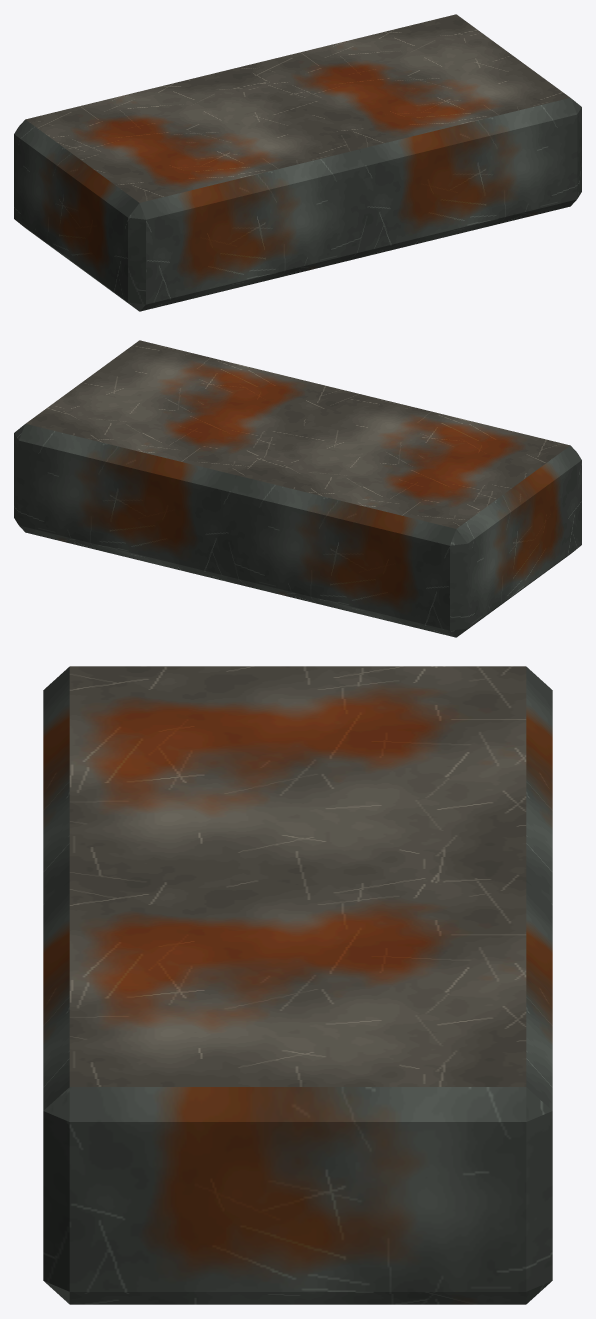
The model's file is R4B_Plate1x2_LOD1.glb.
3 views of the same model, one above another, from view 1: azimuth 30°, elevation 25°; view 2: azimuth 150°, elevation 25°; view 3: azimuth 270°, elevation 25° (orthographic). The views are drawn at different scales.
Parts seen in each view (by area): view 1: R4B_Plate1x2_LOD1; view 2: R4B_Plate1x2_LOD1; view 3: R4B_Plate1x2_LOD1.
Boxes of the visible parts, left/top/right/bottom form: R4B_Plate1x2_LOD1: left=14, top=14, right=581, bottom=311; R4B_Plate1x2_LOD1: left=14, top=340, right=581, bottom=637; R4B_Plate1x2_LOD1: left=43, top=666, right=552, bottom=1304.
Bounding box in the file's own units: 1.07 × 0.245 × 0.52.
2 materials, 2 textured.
